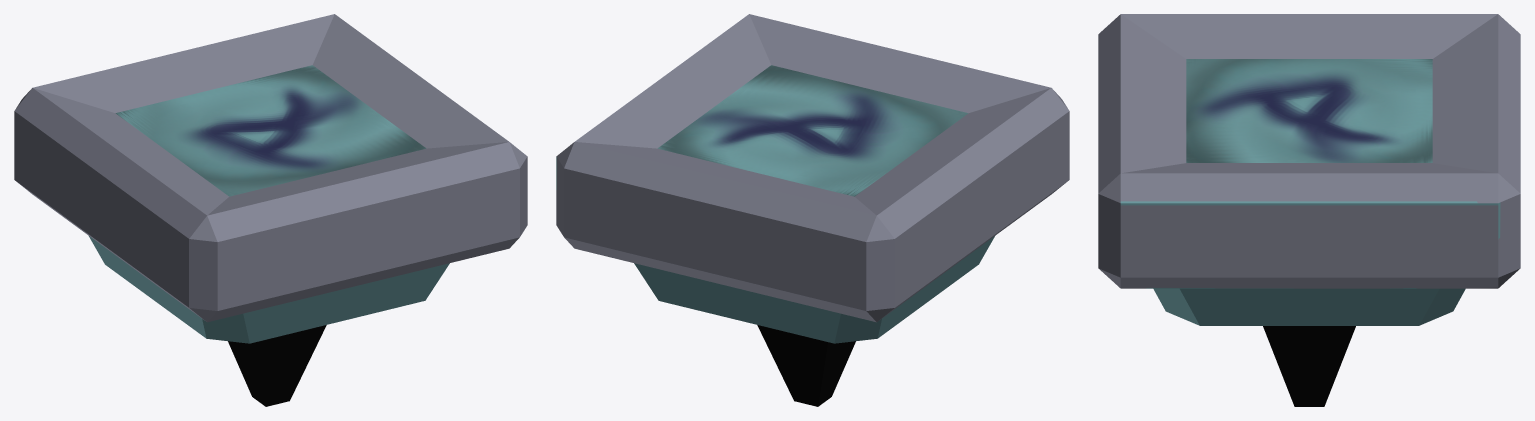
Rendered from TrompoATK.fbx.
3 renders of one model, left to right at view 1: azimuth 30°, elevation 25°; view 2: azimuth 150°, elevation 25°; view 3: azimuth 270°, elevation 25°, orthographic. The views are drawn at different scales.
Parts seen in each view (by area): view 1: ataque; view 2: ataque; view 3: ataque.
Part boxes in pixels (bbox=[...]): ataque: bbox=[14, 14, 527, 406]; ataque: bbox=[556, 14, 1069, 406]; ataque: bbox=[1098, 14, 1520, 406].
Bounding box in the file's own units: 320 × 257 × 321.
